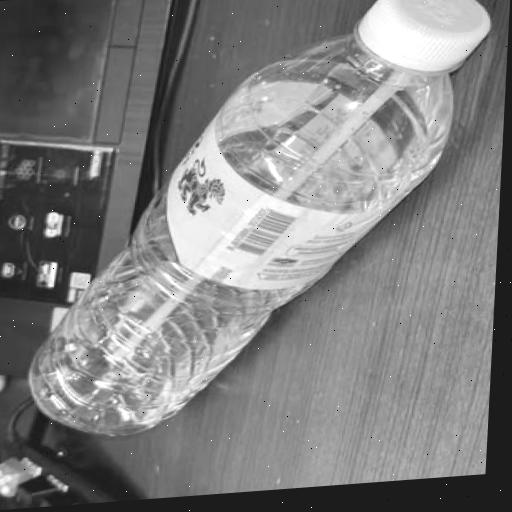bottle: (5, 0, 503, 456)
